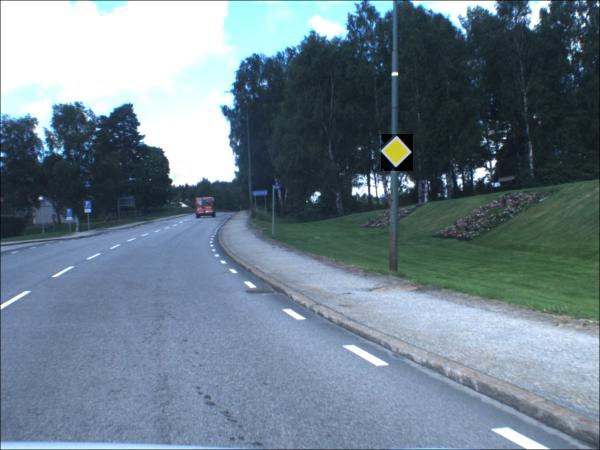PRIORITY_ROAD: (382, 135, 415, 173)
